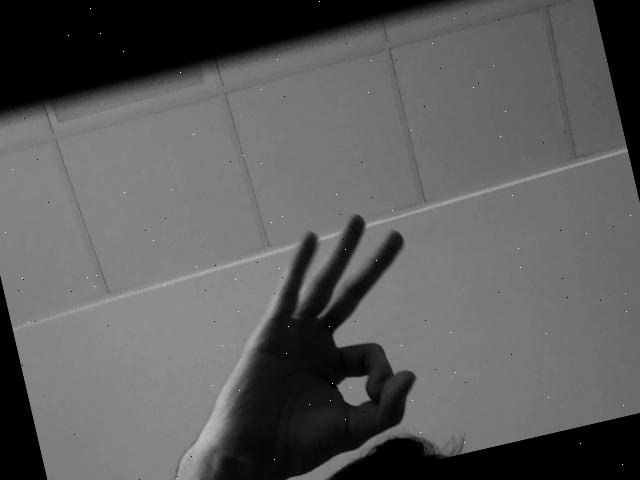OK: (227, 186, 460, 452)
